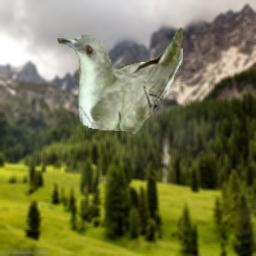Cuckoo: (57, 26, 183, 137)
